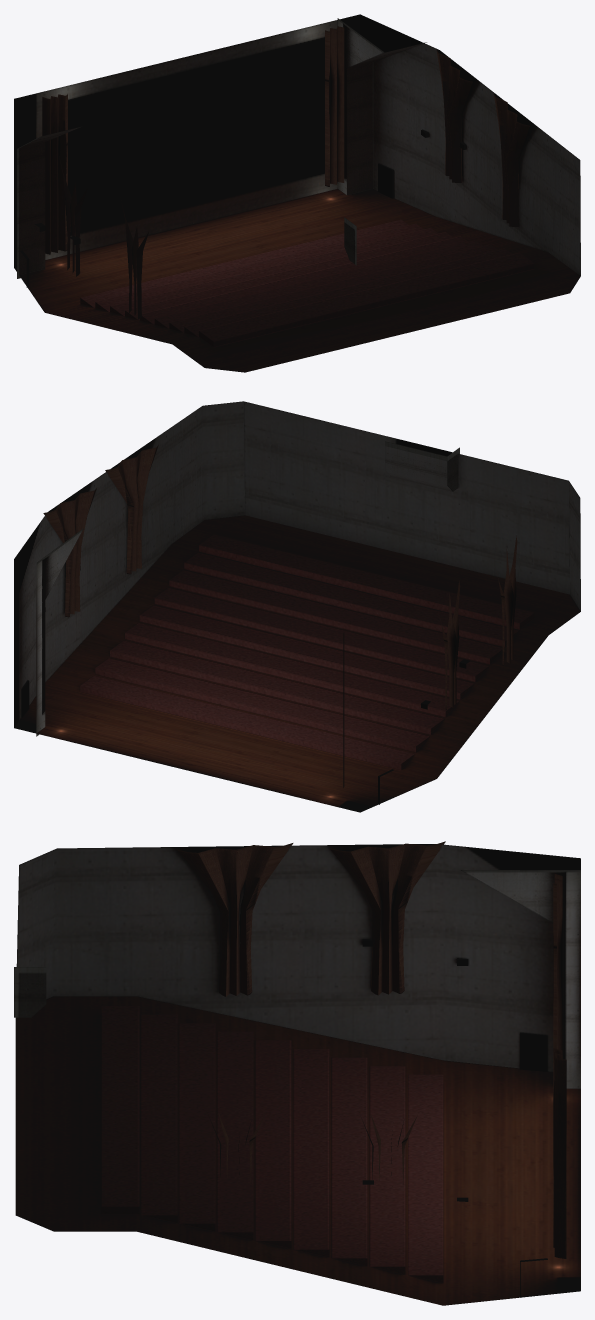
Rendered from cinema.glb.
The picture shows the model from 3 angles, top to bottom: view 1: azimuth 30°, elevation 25°; view 2: azimuth 150°, elevation 25°; view 3: azimuth 270°, elevation 25°; orthographic projection. The views are drawn at different scales.
Visible parts, largest first — view 1: cimema; view 2: cimema; view 3: cimema.
Boxes of the visible parts, left/top/right/bottom form: cimema: left=14, top=14, right=580, bottom=372; cimema: left=14, top=401, right=580, bottom=812; cimema: left=14, top=841, right=580, bottom=1305.
Size of the model in its own units: 30.94 by 13.19 by 29.86.
Materials: 1 (1 with a texture image).
